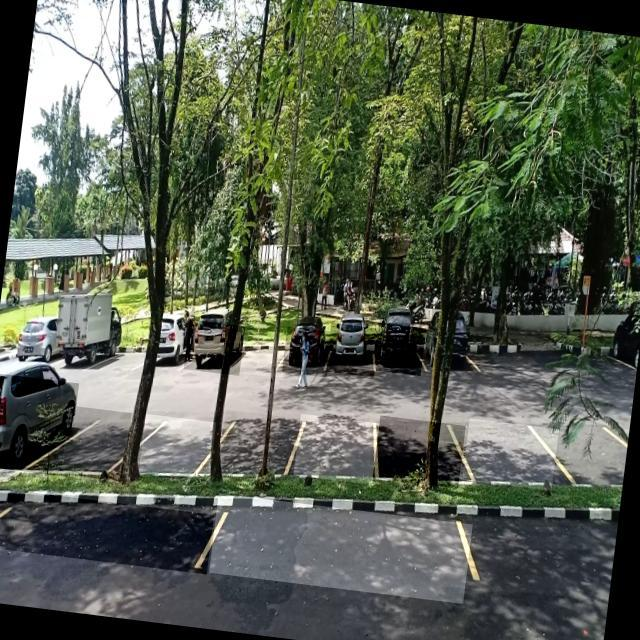empty: (209, 493, 473, 603), (0, 487, 213, 574), (462, 418, 558, 491), (372, 415, 465, 488), (293, 414, 380, 484), (218, 410, 300, 480), (60, 405, 132, 481), (138, 414, 216, 480), (234, 333, 287, 378)
occupied: (0, 372, 78, 476), (183, 320, 245, 376), (324, 322, 380, 377), (372, 322, 426, 376), (282, 326, 332, 377)
